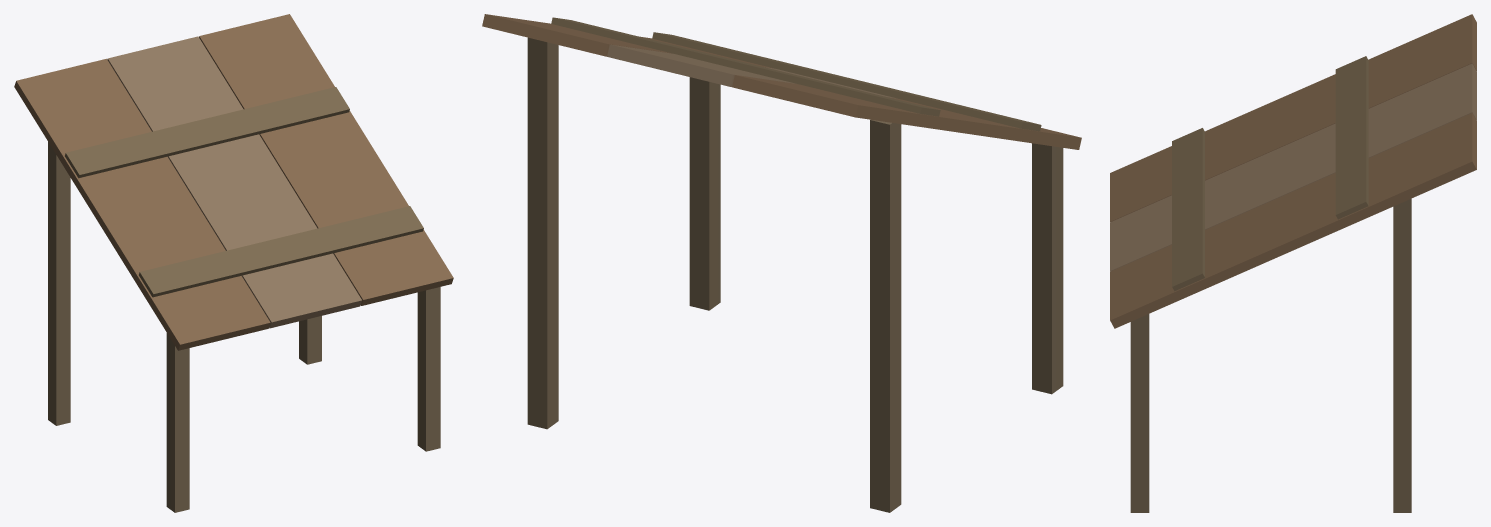
File: Tent.fbx
The picture shows the model from 3 angles, left to right: view 1: azimuth 30°, elevation 25°; view 2: azimuth 150°, elevation 25°; view 3: azimuth 270°, elevation 25°; orthographic projection. The views are drawn at different scales.
Visible parts, largest first — view 1: Tent; view 2: Tent; view 3: Tent.
Boxes of the visible parts, x1,y1,x2,y2 form: Tent: [14, 14, 453, 512]; Tent: [482, 14, 1081, 512]; Tent: [1110, 14, 1476, 512].
Bounding box in the file's own units: 56.33 × 62.96 × 59.19.
1 material, 1 textured.
